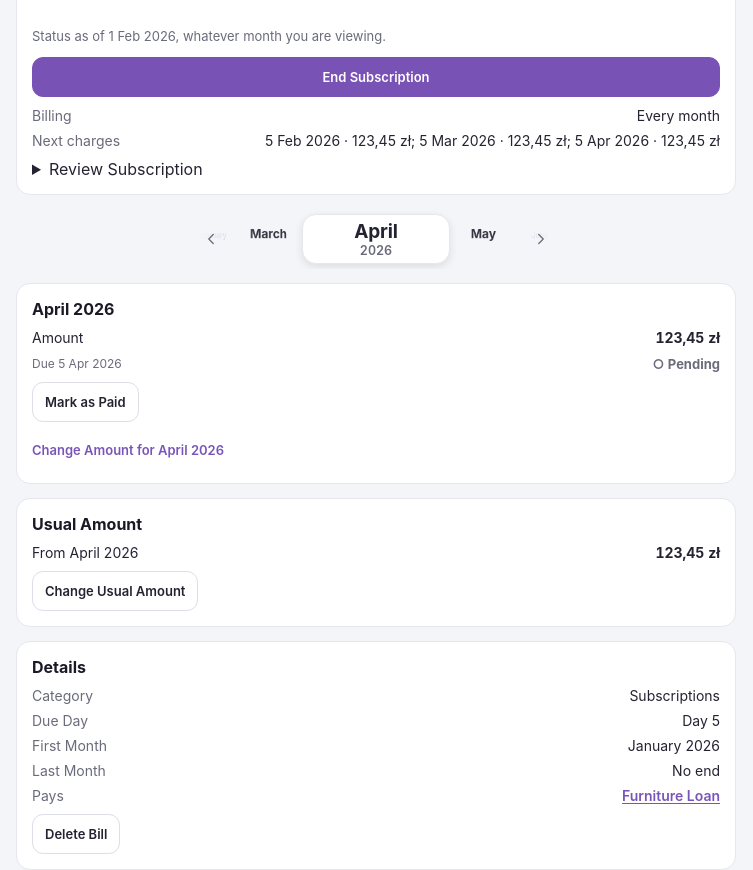
it: does not mention payments when Delete has none
The image size is (753, 870).
(page scrolled)
Click the button "Delete Bill".
click(76, 834)  # box [32,814,120,854]
(page scrolled)
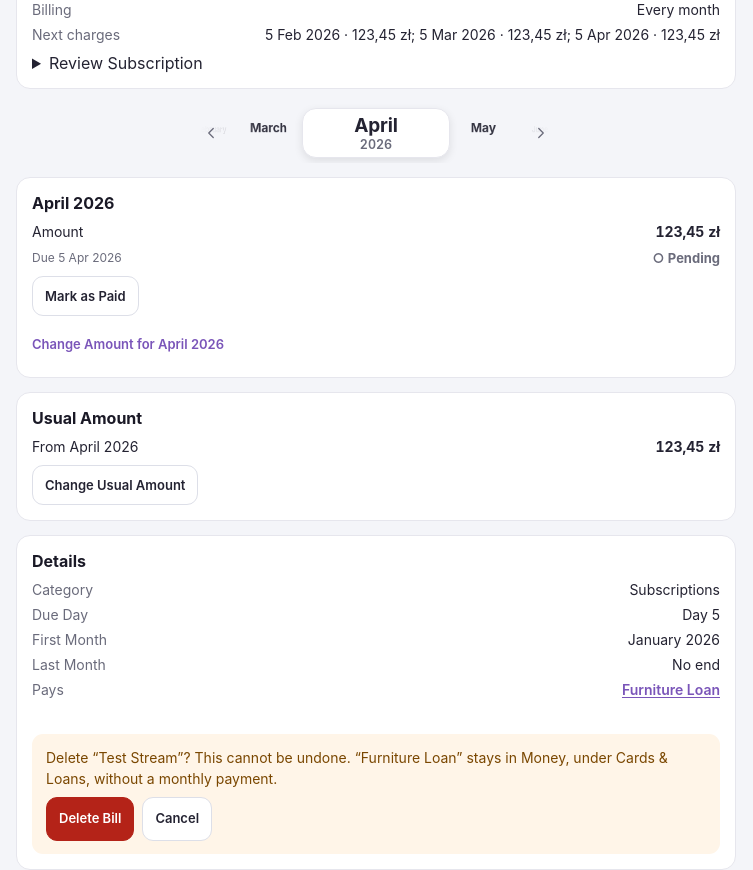
Expected: the message shows "Delete “Test Stream”? This cannot be undone.", [32,734,720,854]
